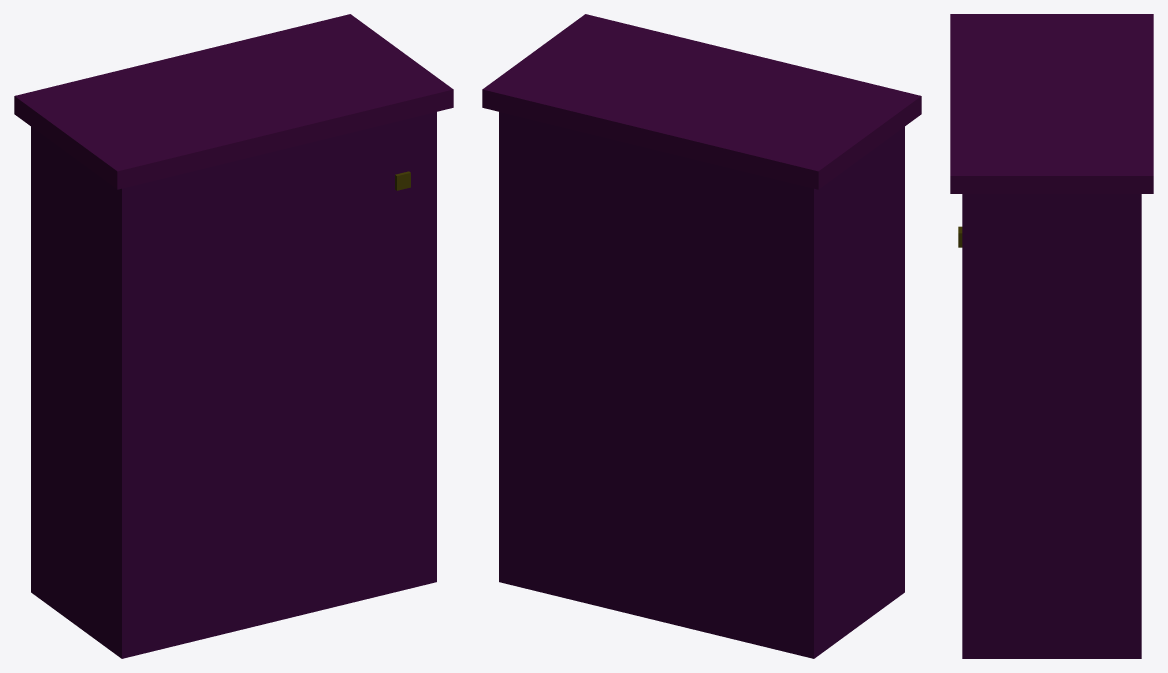
The model's file is cabinet.glb.
3 views of the same model, side by side, from view 1: azimuth 30°, elevation 25°; view 2: azimuth 150°, elevation 25°; view 3: azimuth 270°, elevation 25° (orthographic).
Visible parts, largest first — view 1: cabinet; view 2: cabinet; view 3: cabinet.
Boxes of the visible parts, x1,y1,x2,y2 form: cabinet: [14, 14, 453, 658]; cabinet: [482, 14, 921, 658]; cabinet: [950, 14, 1153, 658].
Size of the model in its own units: 0.96 by 1.35 by 0.5099.
